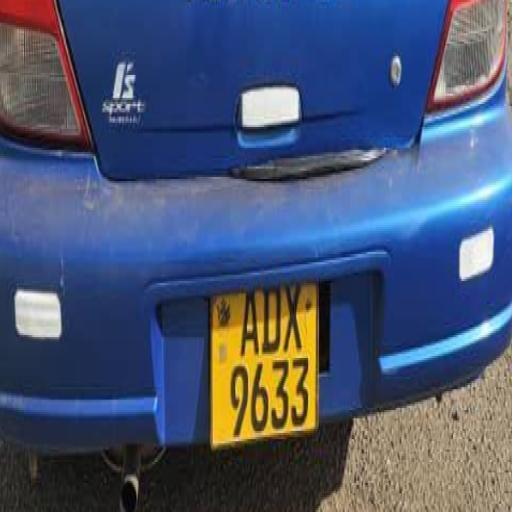number-plates: (213, 280, 316, 428)
